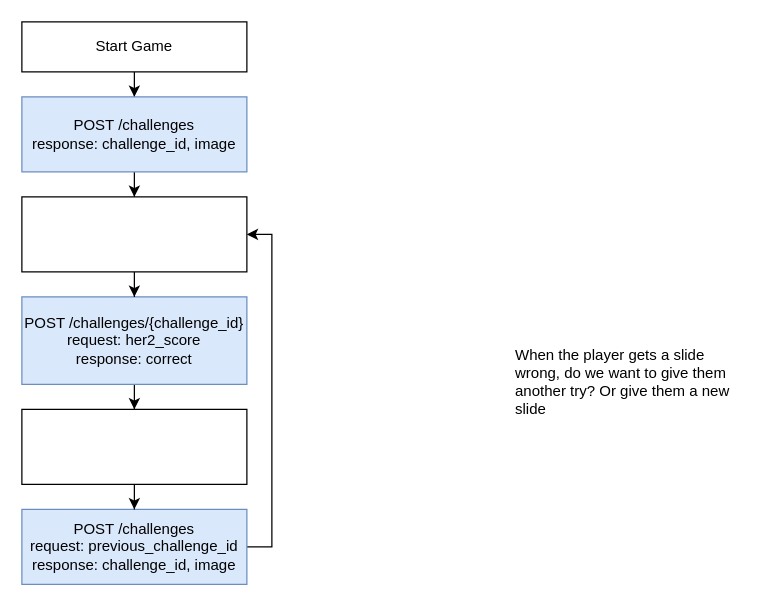
This 769x606 diagram has some shape labels left out. Each missing label, with the centre of its shape:
Display correct/incorrect to user: the point at 134,446
Present image to user, user guesses HER2 score: the point at 134,234
